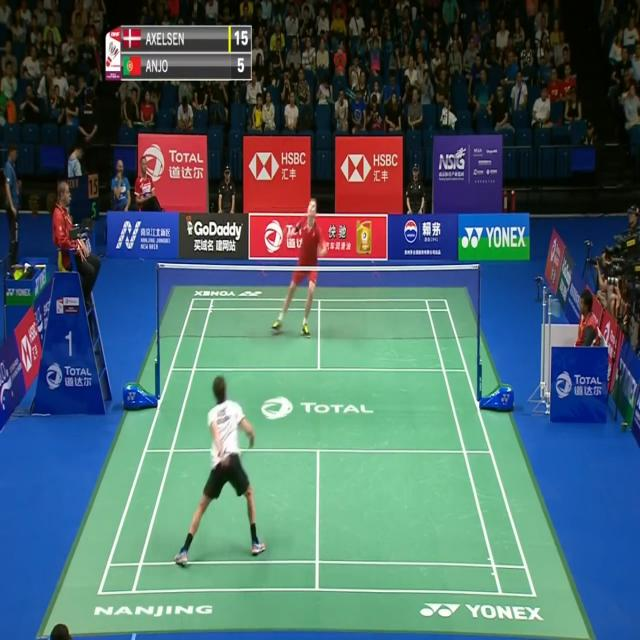Player1: (173, 367, 269, 568)
Player2: (268, 192, 333, 345)
